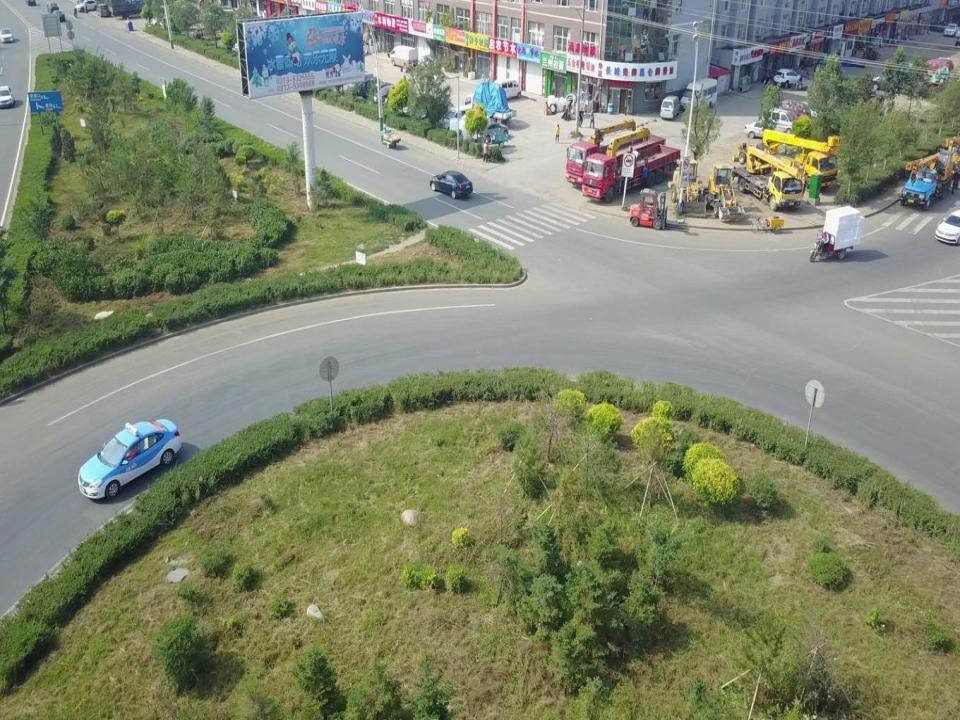car: (77, 418, 180, 500), (430, 170, 473, 198), (470, 121, 509, 143), (744, 120, 786, 140), (415, 100, 449, 123), (935, 211, 957, 244), (398, 94, 430, 116), (374, 85, 404, 106), (773, 68, 804, 88), (358, 78, 387, 99), (868, 74, 904, 90), (75, 0, 99, 12), (0, 86, 13, 106), (944, 22, 958, 36), (1, 29, 13, 44), (53, 10, 65, 22), (46, 3, 59, 12)
truck: (581, 127, 680, 202), (566, 118, 666, 187), (730, 142, 808, 211), (757, 128, 842, 190), (899, 148, 956, 210), (462, 93, 517, 125), (108, 0, 164, 18)
van: (437, 102, 479, 134), (681, 77, 717, 112), (764, 108, 802, 136), (778, 99, 812, 124), (390, 45, 418, 68), (348, 73, 374, 95), (494, 78, 521, 98), (660, 95, 680, 120), (814, 60, 836, 76), (97, 4, 111, 18)
